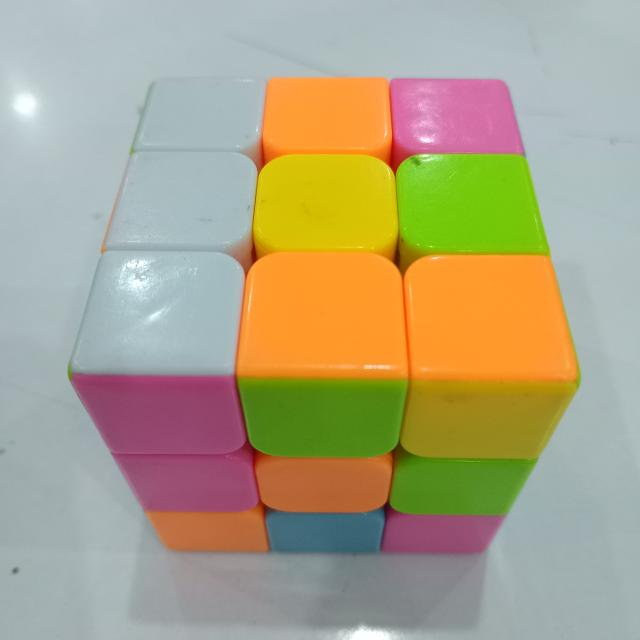down: (70, 77, 577, 381)
left: (72, 374, 577, 553)
rubik: (64, 77, 586, 556)
